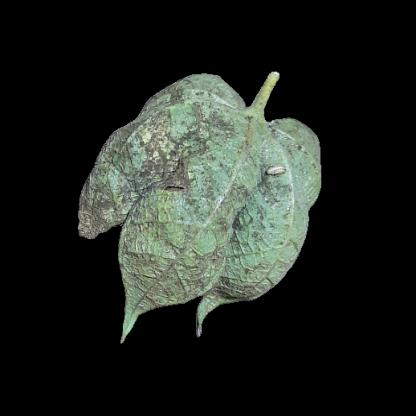curl_stage2: (256, 237, 302, 270), (294, 168, 322, 207)
sooty: (136, 123, 223, 229), (127, 228, 213, 298), (232, 159, 302, 234), (89, 165, 139, 224), (176, 83, 237, 128), (212, 242, 254, 303)
